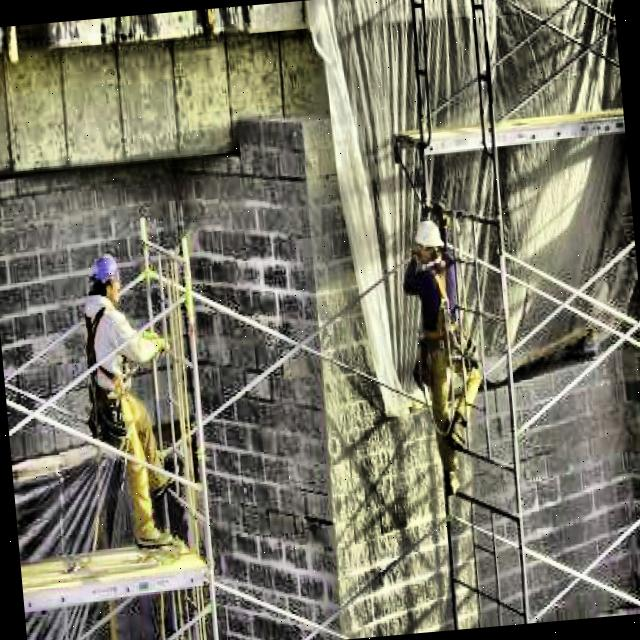helmet: (406, 215, 450, 278), (88, 248, 124, 300)
